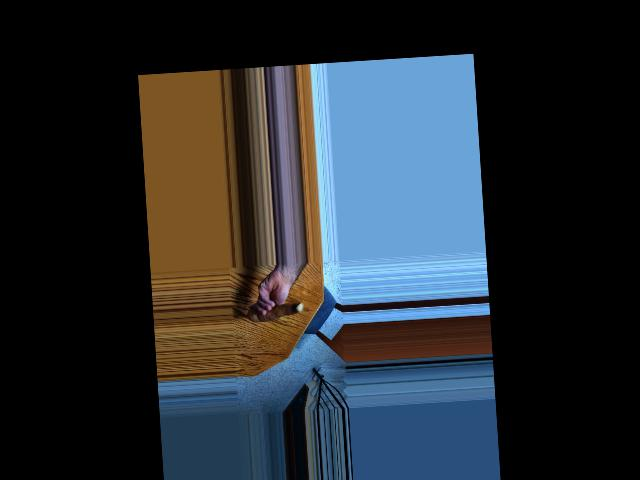sweet_potato: (246, 296, 302, 324)
